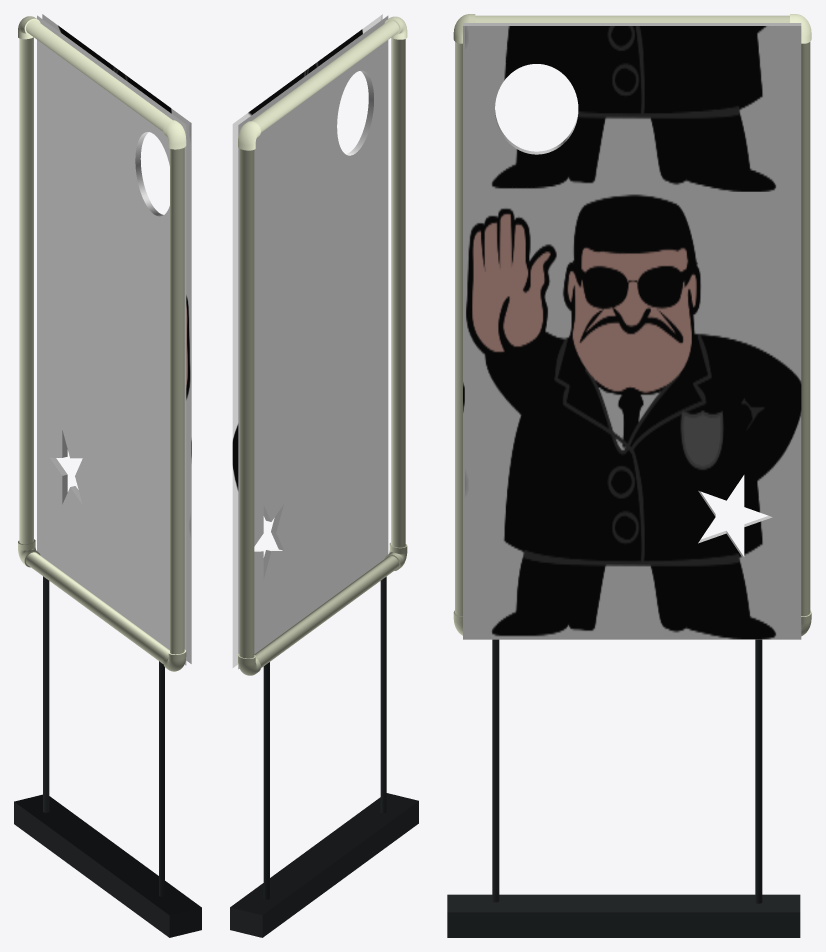
File: torpedo_bootlegger.dae
The picture shows the model from 3 angles, left to right: view 1: azimuth 30°, elevation 25°; view 2: azimuth 150°, elevation 25°; view 3: azimuth 270°, elevation 25°; orthographic projection. The views are drawn at different scales.
Parts seen in each view (by area): view 1: canvas, ballast_box, vert_right, vert_left, horiz_top, horiz_bottom, right_pole, left_pole, top_right; view 2: canvas, ballast_box, vert_left, vert_right, horiz_top, horiz_bottom, right_pole, left_pole, top_left; view 3: canvas, ballast_box, vert_left, vert_right, horiz_top, right_pole, left_pole.
Boxes of the visible parts, <box> form: canvas: <box>37,14,191,665</box>; ballast_box: <box>14,794,201,937</box>; vert_right: <box>170,147,184,654</box>; vert_left: <box>19,37,33,544</box>; horiz_top: <box>26,20,172,131</box>; horiz_bottom: <box>26,552,169,663</box>; right_pole: <box>43,576,49,812</box>; left_pole: <box>159,661,164,896</box>; top_right: <box>163,120,186,149</box>; canvas: <box>232,14,388,669</box>; ballast_box: <box>230,793,418,937</box>; vert_left: <box>239,148,254,658</box>; vert_right: <box>391,38,405,547</box>; horiz_top: <box>251,20,399,132</box>; horiz_bottom: <box>254,556,399,667</box>; right_pole: <box>263,662,269,899</box>; left_pole: <box>380,576,386,813</box>; top_left: <box>238,121,260,150</box>; canvas: <box>463,23,801,639</box>; ballast_box: <box>447,894,800,937</box>; vert_left: <box>801,42,810,616</box>; vert_right: <box>455,42,462,616</box>; horiz_top: <box>475,15,789,22</box>; right_pole: <box>755,639,762,903</box>; left_pole: <box>492,639,499,902</box>.
Bounding box in the file's own units: 0.0762 × 0.6555 × 1.81.
Materials: 4 (1 with a texture image).
